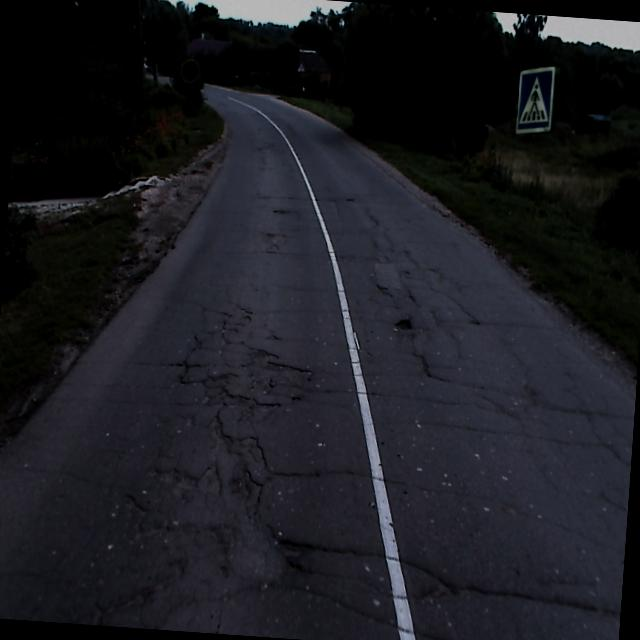road: (0, 83, 635, 640)
